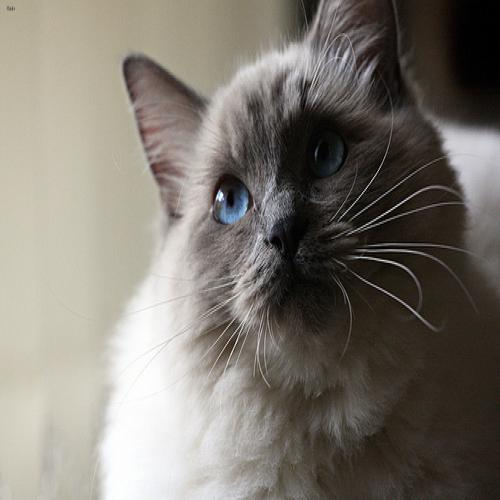ragdoll: (114, 1, 469, 391)
